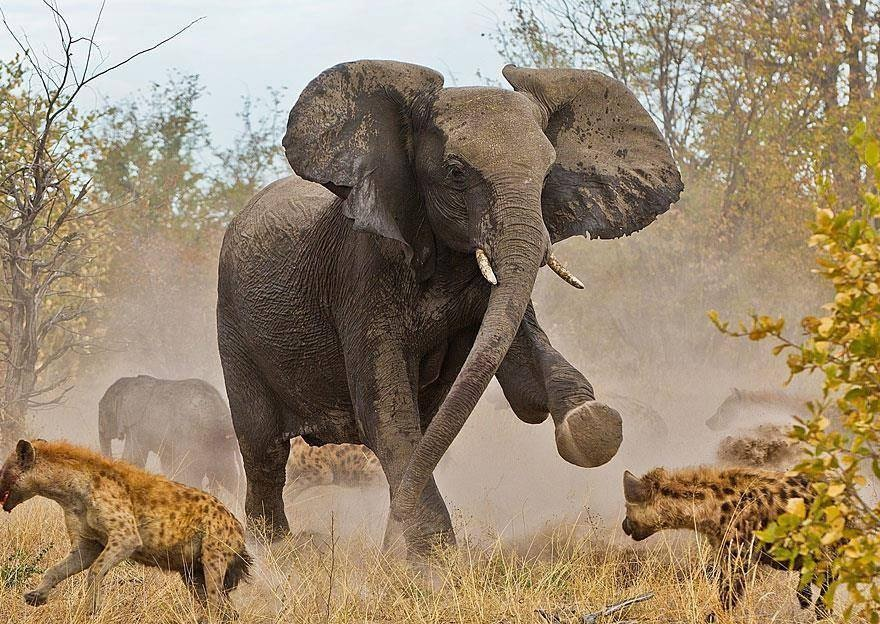elephant: (208, 56, 687, 616), (95, 372, 246, 507)
hyna: (1, 429, 257, 623), (619, 460, 875, 620)
